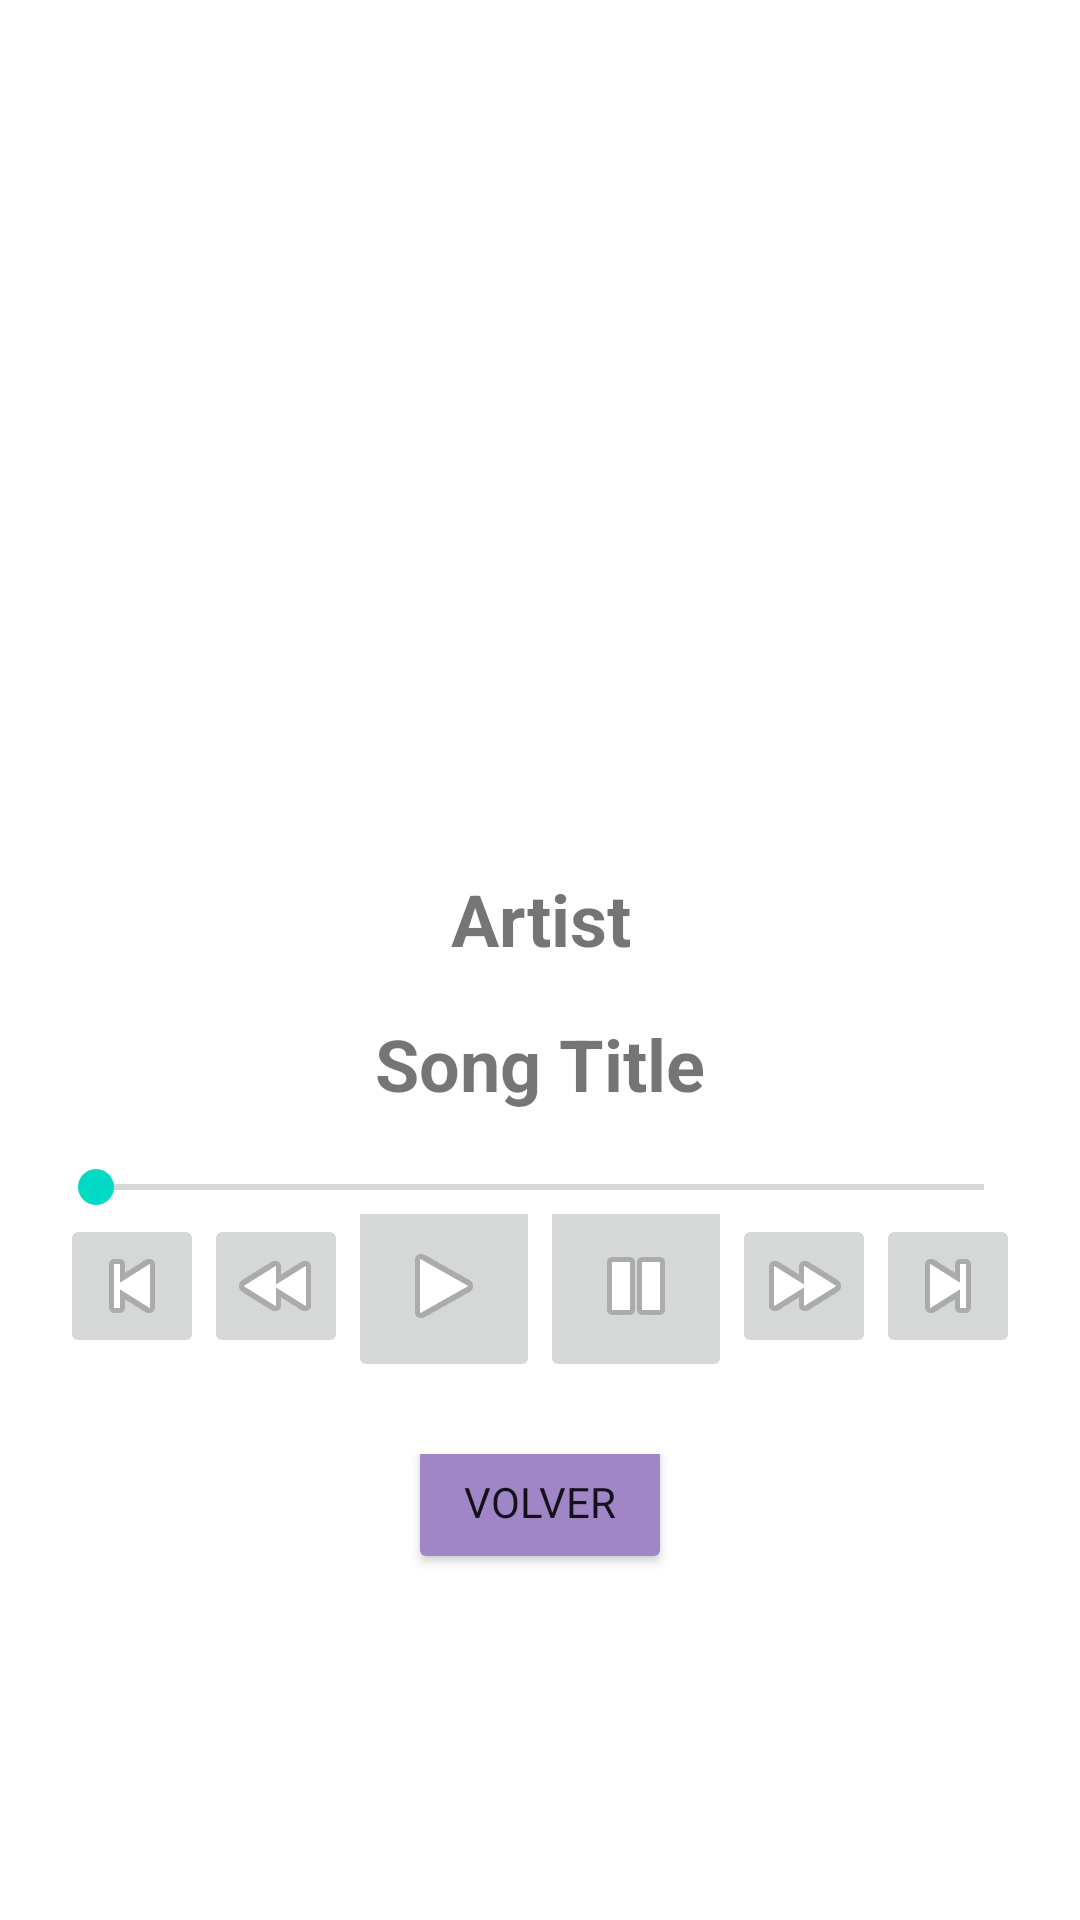

Point at icon controls on the screen. Image size 1080px×1920px, points as point (x, y).
Forward: point (804, 1286)
Next: point (948, 1286)
Previous: point (132, 1286)
Rewind: point (276, 1286)
